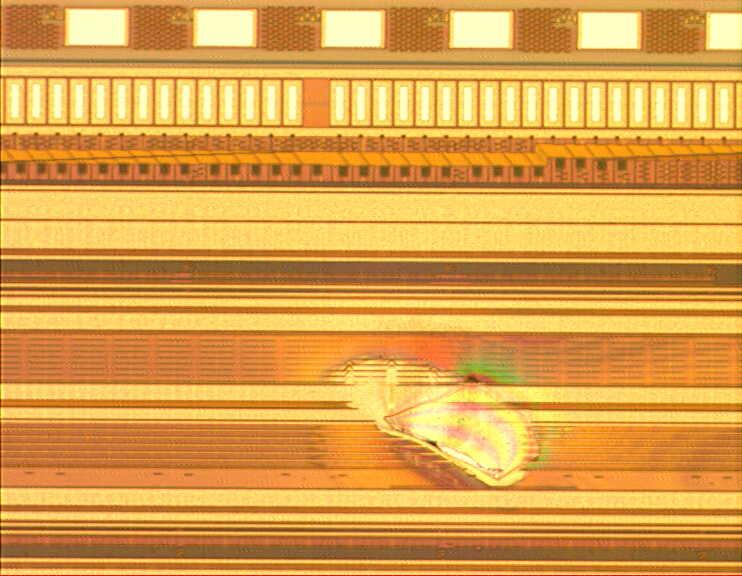BLOCK ETCH: (288, 336, 556, 500)
